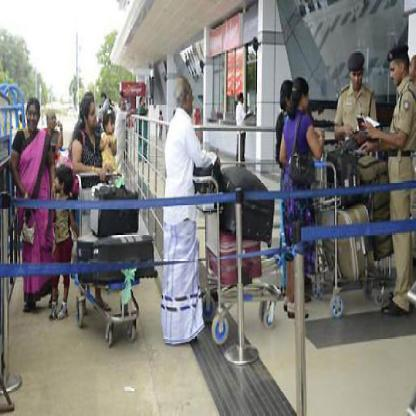airport-trolley: (193, 175, 279, 350), (69, 172, 150, 348), (316, 166, 393, 324)
